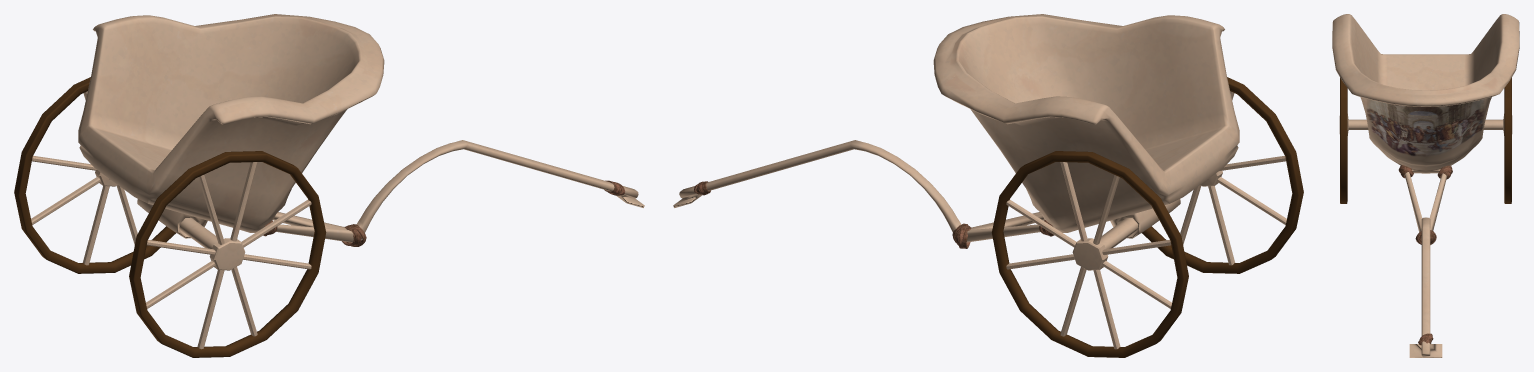
File: roman_chariot_with_painted_front.glb
3 renders of one model, left to right at view 1: azimuth 30°, elevation 25°; view 2: azimuth 150°, elevation 25°; view 3: azimuth 270°, elevation 25°, orthographic. The views are drawn at different scales.
Visible parts, largest first — view 1: polySurface4, polySurface1, polySurface3, polySurface9; view 2: polySurface4, polySurface1, polySurface3, polySurface9; view 3: polySurface4, polySurface1, polySurface9, polySurface3.
Boxes of the visible parts, <box> form: polySurface4: <box>78,14,644,242</box>; polySurface1: <box>14,77,326,357</box>; polySurface3: <box>31,91,311,349</box>; polySurface9: <box>263,180,624,246</box>; polySurface4: <box>673,14,1239,242</box>; polySurface1: <box>991,77,1303,357</box>; polySurface3: <box>1006,91,1286,349</box>; polySurface9: <box>694,181,1054,248</box>; polySurface4: <box>1332,14,1519,357</box>; polySurface1: <box>1340,77,1511,203</box>; polySurface9: <box>1398,165,1452,345</box>; polySurface3: <box>1339,114,1512,135</box>.
Bounding box in the file's own units: 0.0415 × 0.0177 × 0.0167.
4 materials, 4 textured.
